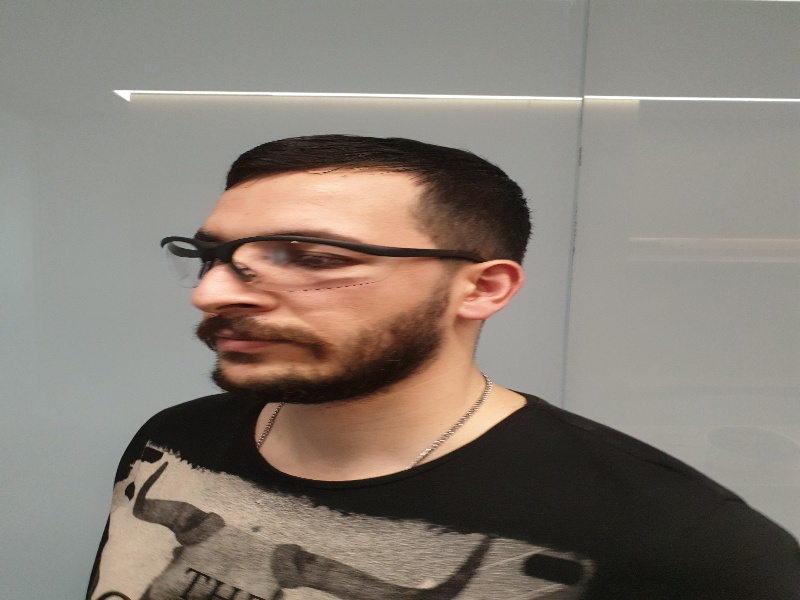Gozluk: (161, 235, 478, 294)
